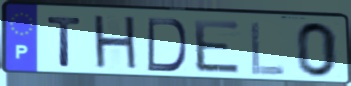0: (294, 21, 343, 80)
D: (145, 16, 189, 74)
E: (191, 18, 243, 76)
H: (91, 13, 141, 74)
L: (249, 20, 288, 77)
T: (45, 15, 84, 69)
